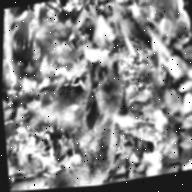boar: (23, 50, 146, 190)
